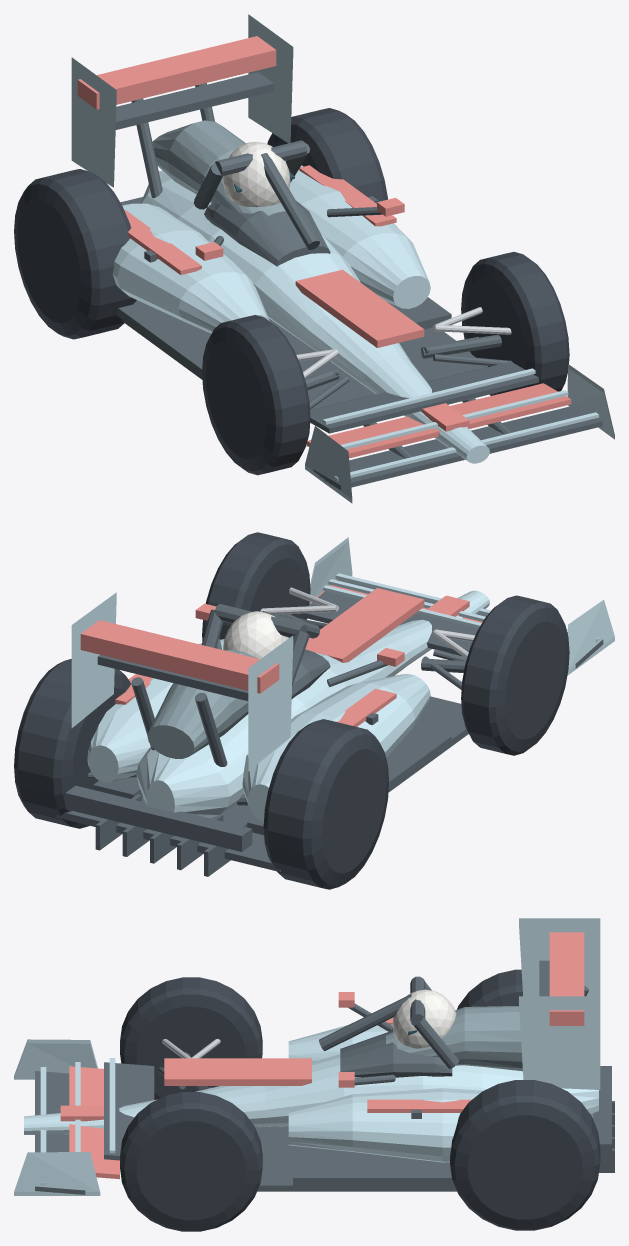
File: hyundai_high.glb
The picture shows the model from 3 angles, top to bottom: view 1: azimuth 30°, elevation 25°; view 2: azimuth 150°, elevation 25°; view 3: azimuth 270°, elevation 25°; orthographic projection. The views are drawn at different scales.
Parts seen in each view (by area): view 1: BODY_paint, BODY_carbon, BODY_accent, RearLeftWheel_rubber, FrontLeftWheel_rubber, FrontRightWheel_rubber, RearRightWheel_rubber, BODY_paint_dark, BODY_helmet, BODY_metal; view 2: BODY_paint, BODY_carbon, RearLeftWheel_rubber, FrontLeftWheel_rubber, BODY_accent, RearRightWheel_rubber, FrontRightWheel_rubber, BODY_paint_dark, BODY_helmet, BODY_metal; view 3: BODY_paint, BODY_carbon, RearRightWheel_rubber, FrontRightWheel_rubber, BODY_accent, FrontLeftWheel_rubber, BODY_paint_dark, BODY_helmet, RearLeftWheel_rubber.
Part boxes in pixels (x1,y1,x2,y2): BODY_paint: (71,14,614,503); BODY_carbon: (115,72,602,489); BODY_accent: (77,36,571,458); RearLeftWheel_rubber: (14,169,136,339); FrontLeftWheel_rubber: (202,315,310,475); FrontRightWheel_rubber: (461,252,569,395); RearRightWheel_rubber: (267,108,387,201); BODY_paint_dark: (152,120,285,215); BODY_helmet: (222,141,290,207); BODY_metal: (296,307,511,378); BODY_paint: (71,537,614,821); BODY_carbon: (56,579,603,876); RearLeftWheel_rubber: (263,719,388,889); FrontLeftWheel_rubber: (461,595,569,755); BODY_accent: (80,585,482,726); RearRightWheel_rubber: (14,659,130,828); FrontRightWheel_rubber: (202,532,310,641); BODY_paint_dark: (147,650,258,758); BODY_helmet: (223,611,288,659); BODY_metal: (260,587,475,658); BODY_paint: (14,918,600,1195); BODY_carbon: (35,960,614,1194); RearRightWheel_rubber: (450,1080,600,1230); FrontRightWheel_rubber: (120,1092,262,1231); BODY_accent: (60,932,584,1179); FrontLeftWheel_rubber: (120,977,262,1099); BODY_paint_dark: (386,1006,522,1071); BODY_helmet: (392,989,456,1048); RearLeftWheel_rubber: (457,969,522,1009).
Bounding box in the file's own units: 2.59 × 1.9 × 4.88.
